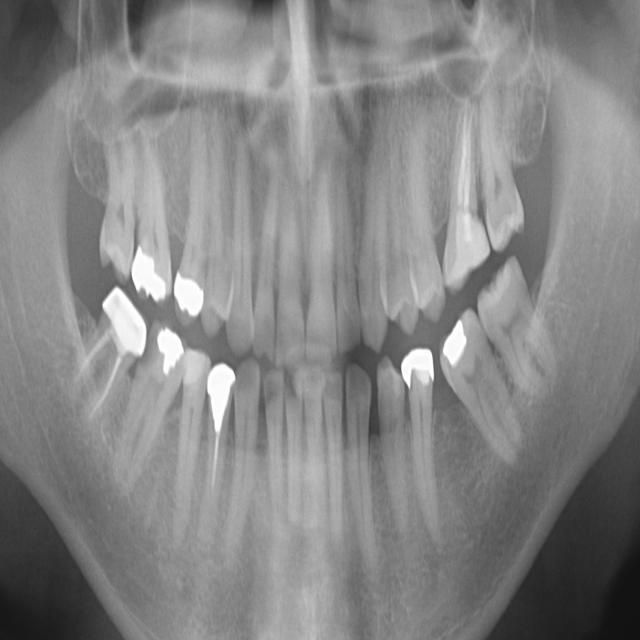dolgu: (435, 310, 477, 372), (126, 246, 169, 300), (144, 319, 183, 372), (170, 267, 211, 313)
kanal-tedavisi: (63, 319, 128, 419), (439, 100, 481, 228), (200, 429, 230, 516)
kaplama: (105, 286, 147, 357), (203, 358, 236, 424), (403, 348, 440, 388)
